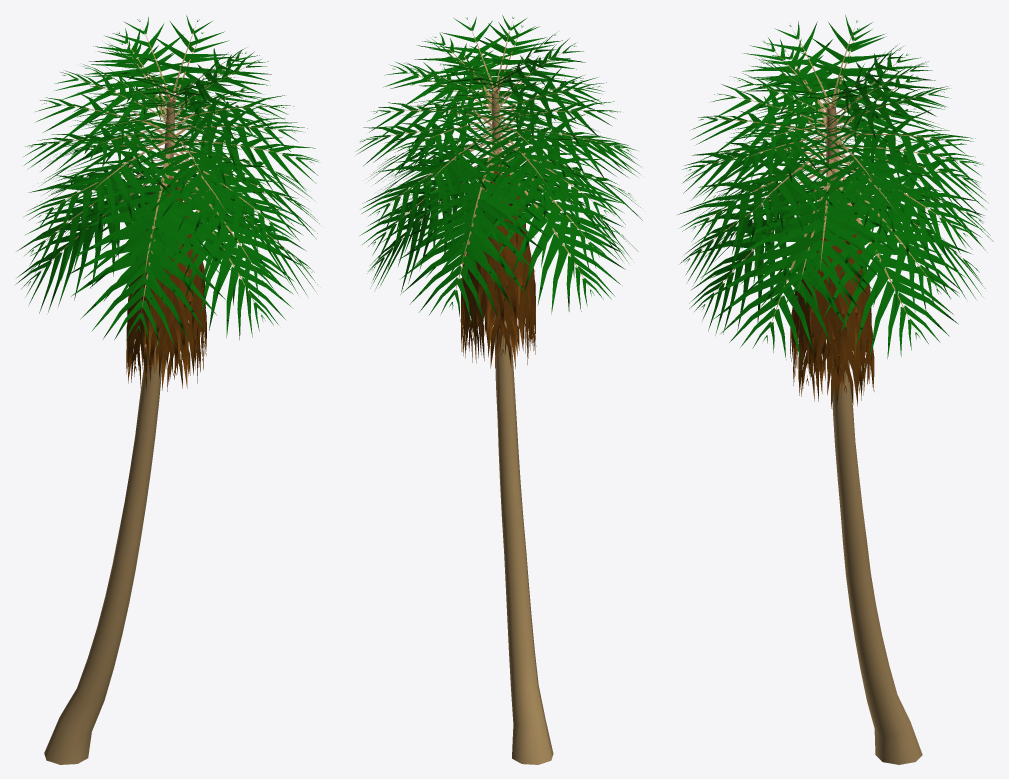
File: trees_01.FBX
3 renders of one model, left to right at view 1: azimuth 30°, elevation 25°; view 2: azimuth 150°, elevation 25°; view 3: azimuth 270°, elevation 25°, orthographic. The views are drawn at different scales.
Visible parts, largest first — view 1: Foliage015; view 2: Foliage015; view 3: Foliage015.
Part boxes in pixels (box(x1,y1,x2,y2)): Foliage015: box(15, 15, 321, 764); Foliage015: box(355, 15, 642, 764); Foliage015: box(677, 15, 993, 764).
Size of the model in its own units: 163 by 421 by 163.
